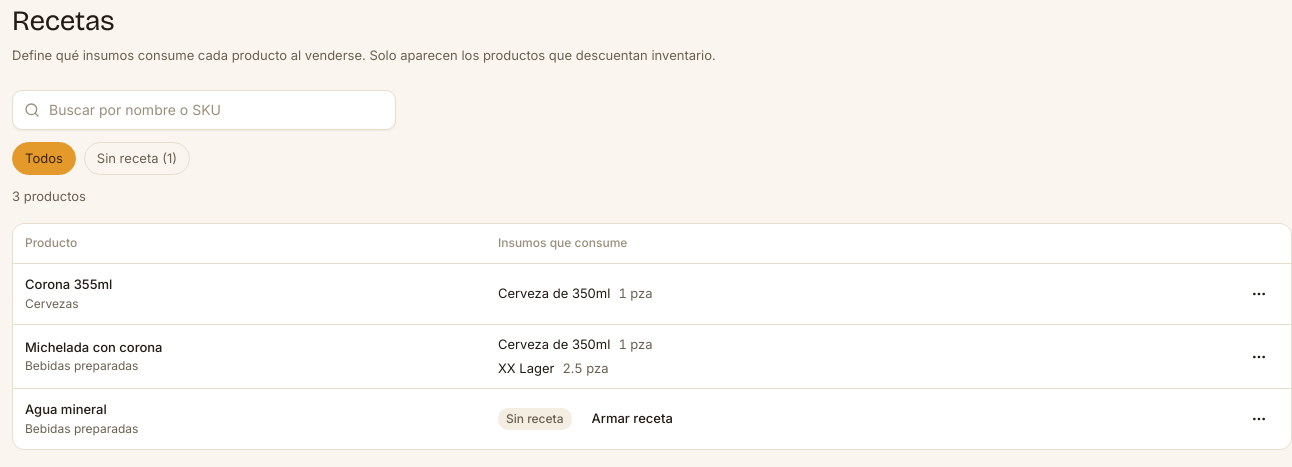
RecetasPage · buscar y lo que falta › busca contra el servidor, no dentro de la página
Type "michelada" into the field named "buscar productos" at (204, 110), box left=12, top=90, right=396, bottom=130
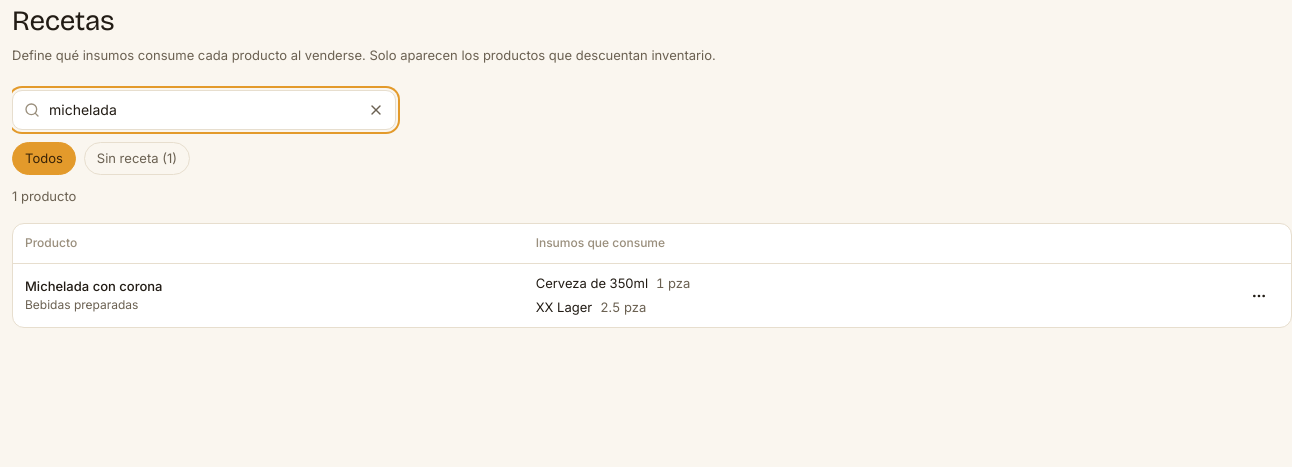
Check: the text "Corona 355ml" is gone
